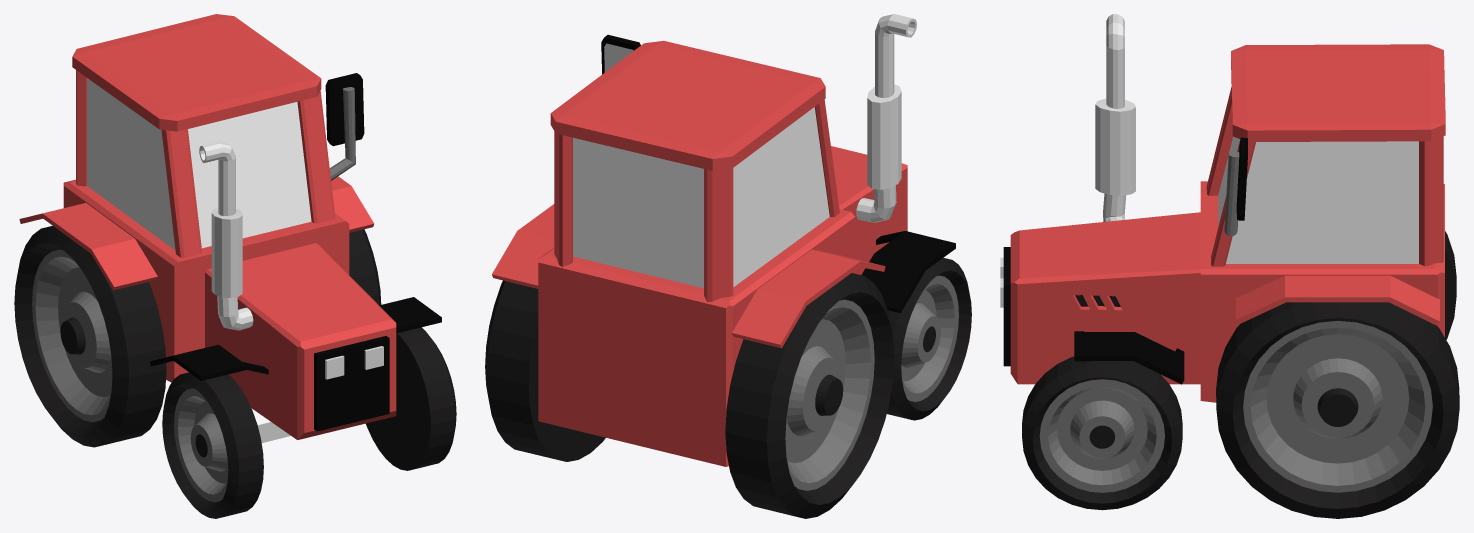
Rendered from tractor.fbx.
The picture shows the model from 3 angles, left to right: view 1: azimuth 30°, elevation 25°; view 2: azimuth 150°, elevation 25°; view 3: azimuth 270°, elevation 25°; orthographic projection. The views are drawn at different scales.
Visible parts, largest first — view 1: Cube, Cylinder.001, Cube.007, Cube.005, Cylinder.003, Cylinder.002, Plane.006, pipe, Plane.001, Cube.001, Cube.002, Cube.006 (+5 smaller); view 2: Cube, Cylinder.001, Cube.007, Cube.005, Cylinder.003, Cylinder, pipe, Plane.001, Plane.003, Cube.004, Plane, Cube.003 (+2 smaller); view 3: Cylinder, Cube, Cube.007, Cube.005, Cylinder.002, pipe, Plane, Plane.002, Cube.003, Cube.006, Cube.001, Cylinder.001 (+2 smaller).
Boxes of the visible parts, x1=… form: Cube: x1=63, y1=179, x2=396, y2=439; Cylinder.001: x1=14, y1=225, x2=166, y2=447; Cube.007: x1=87, y1=78, x2=311, y2=250; Cube.005: x1=72, y1=14, x2=321, y2=131; Cylinder.003: x1=162, y1=372, x2=263, y2=518; Cylinder.002: x1=366, y1=327, x2=456, y2=470; Plane.006: x1=314, y1=336, x2=389, y2=431; pipe: x1=199, y1=141, x2=253, y2=330; Plane.001: x1=19, y1=203, x2=157, y2=290; Cube.001: x1=161, y1=129, x2=202, y2=257; Cube.002: x1=297, y1=90, x2=335, y2=223; Cube.006: x1=325, y1=73, x2=364, y2=180; Cube: x1=538, y1=146, x2=907, y2=466; Cylinder.001: x1=725, y1=273, x2=894, y2=518; Cube.007: x1=573, y1=107, x2=829, y2=288; Cube.005: x1=550, y1=40, x2=825, y2=170; Cylinder.003: x1=886, y1=258, x2=971, y2=420; Cylinder: x1=485, y1=280, x2=605, y2=461; pipe: x1=856, y1=14, x2=916, y2=222; Plane.001: x1=731, y1=249, x2=885, y2=348; Plane.003: x1=861, y1=231, x2=955, y2=313; Cube.004: x1=704, y1=168, x2=733, y2=302; Plane: x1=492, y1=204, x2=554, y2=288; Cube.003: x1=554, y1=131, x2=572, y2=266; Cylinder: x1=1216, y1=302, x2=1459, y2=518; Cube: x1=1010, y1=181, x2=1444, y2=402; Cube.007: x1=1218, y1=136, x2=1418, y2=263; Cube.005: x1=1231, y1=44, x2=1445, y2=141; Cylinder.002: x1=1022, y1=356, x2=1182, y2=510; pipe: x1=1095, y1=14, x2=1135, y2=221; Plane: x1=1236, y1=275, x2=1439, y2=325; Plane.002: x1=1074, y1=331, x2=1184, y2=384; Cube.003: x1=1419, y1=136, x2=1443, y2=266; Cube.006: x1=1224, y1=137, x2=1247, y2=236; Cube.001: x1=1206, y1=87, x2=1232, y2=195; Cylinder.001: x1=1445, y1=231, x2=1456, y2=339.
Size of the model in its own units: 74.43 by 94.87 by 102.
